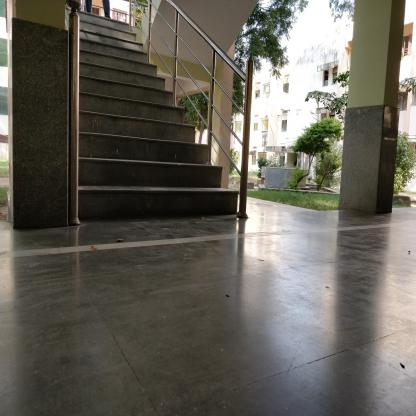stairs: (83, 40, 146, 230)
